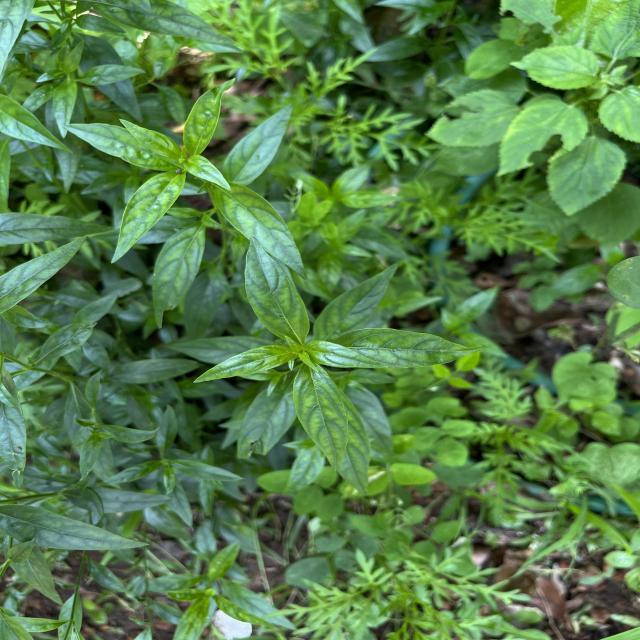Andrographis paniculata: (206, 179, 310, 281), (240, 236, 312, 342), (108, 169, 187, 265), (290, 361, 350, 474), (328, 326, 484, 368), (150, 222, 208, 330), (223, 102, 297, 186), (60, 122, 183, 172), (181, 75, 241, 160), (191, 344, 291, 384)
